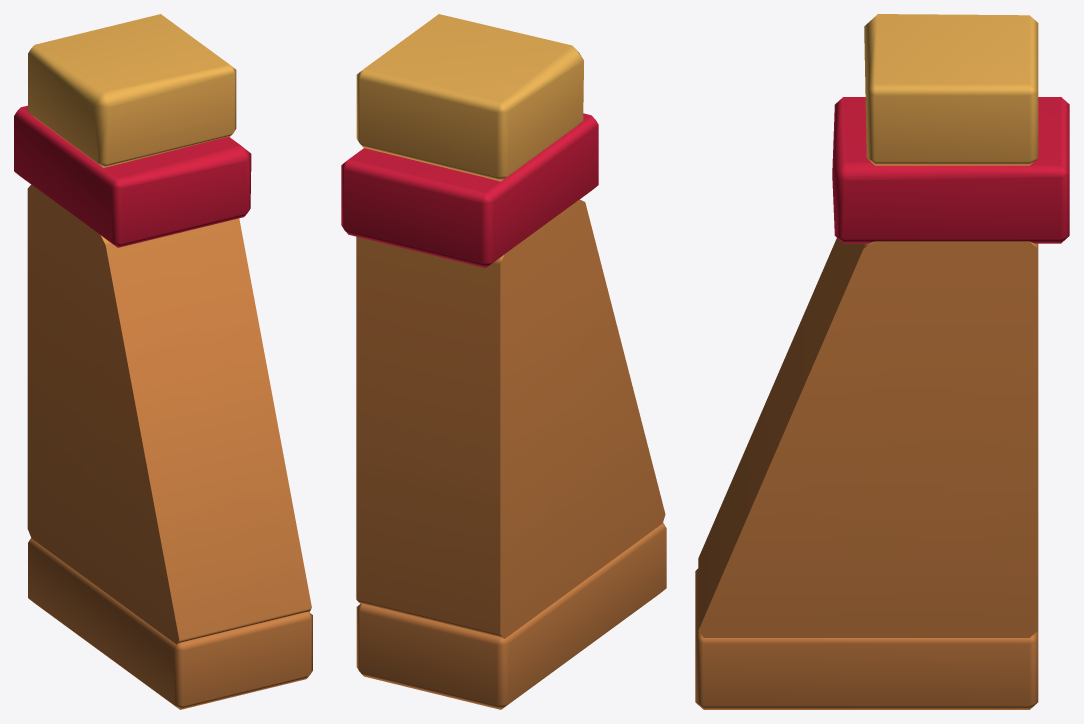
The model's file is wall_floor_slanted_half.fbx.
3 views of the same model, side by side, from view 1: azimuth 30°, elevation 25°; view 2: azimuth 150°, elevation 25°; view 3: azimuth 270°, elevation 25° (orthographic). The views are drawn at different scales.
Parts seen in each view (by area): view 1: wall_floor_slanted_half; view 2: wall_floor_slanted_half; view 3: wall_floor_slanted_half.
Part boxes in pixels (x1,y1,x2,y2): wall_floor_slanted_half: [14, 14, 312, 709]; wall_floor_slanted_half: [341, 14, 666, 709]; wall_floor_slanted_half: [695, 14, 1069, 709].
Size of the model in its own units: 108 by 404 by 218.
